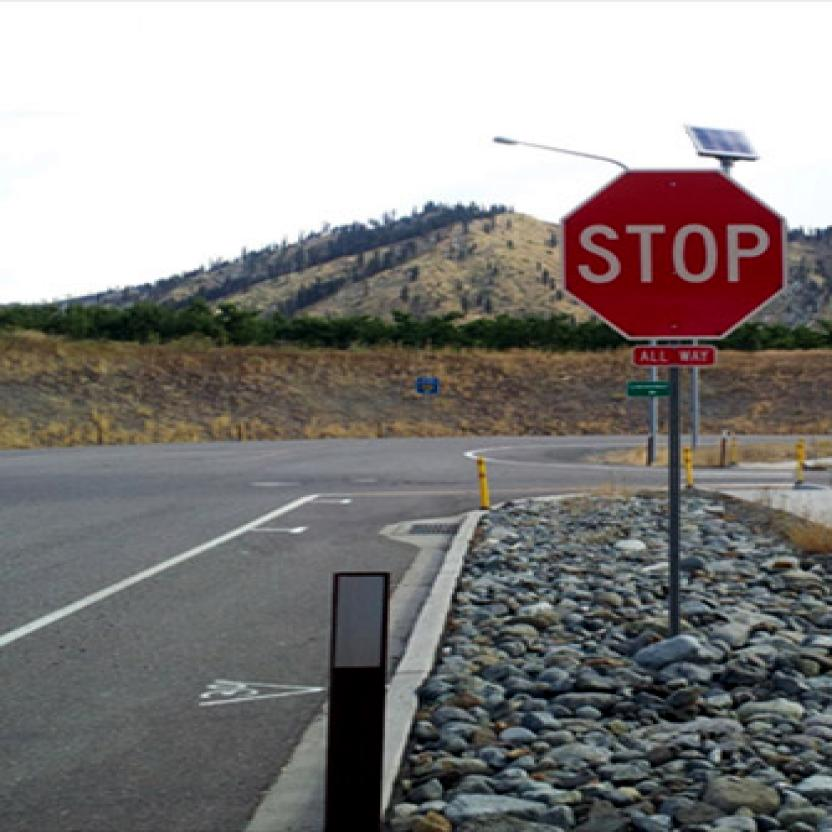Pole: (664, 366, 684, 635)
Sign: (559, 170, 792, 346)
